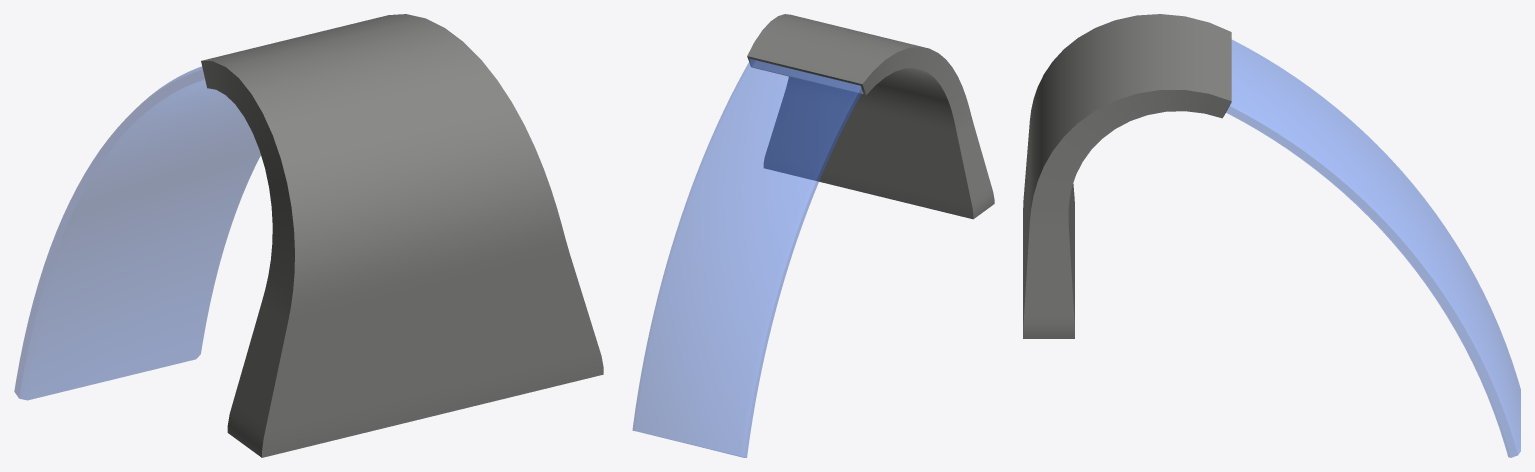
Rendered from fountain.glb.
3 renders of one model, left to right at view 1: azimuth 30°, elevation 25°; view 2: azimuth 150°, elevation 25°; view 3: azimuth 270°, elevation 25°, orthographic. The views are drawn at different scales.
Parts seen in each view (by area): view 1: Faucet; view 2: Faucet; view 3: Faucet.
Part boxes in pixels (x1=…): Faucet: x1=14, y1=14, x2=603, y2=457; Faucet: x1=632, y1=14, x2=994, y2=457; Faucet: x1=1023, y1=14, x2=1520, y2=457.
Bounding box in the file's own units: 0.6 × 0.8313 × 1.
